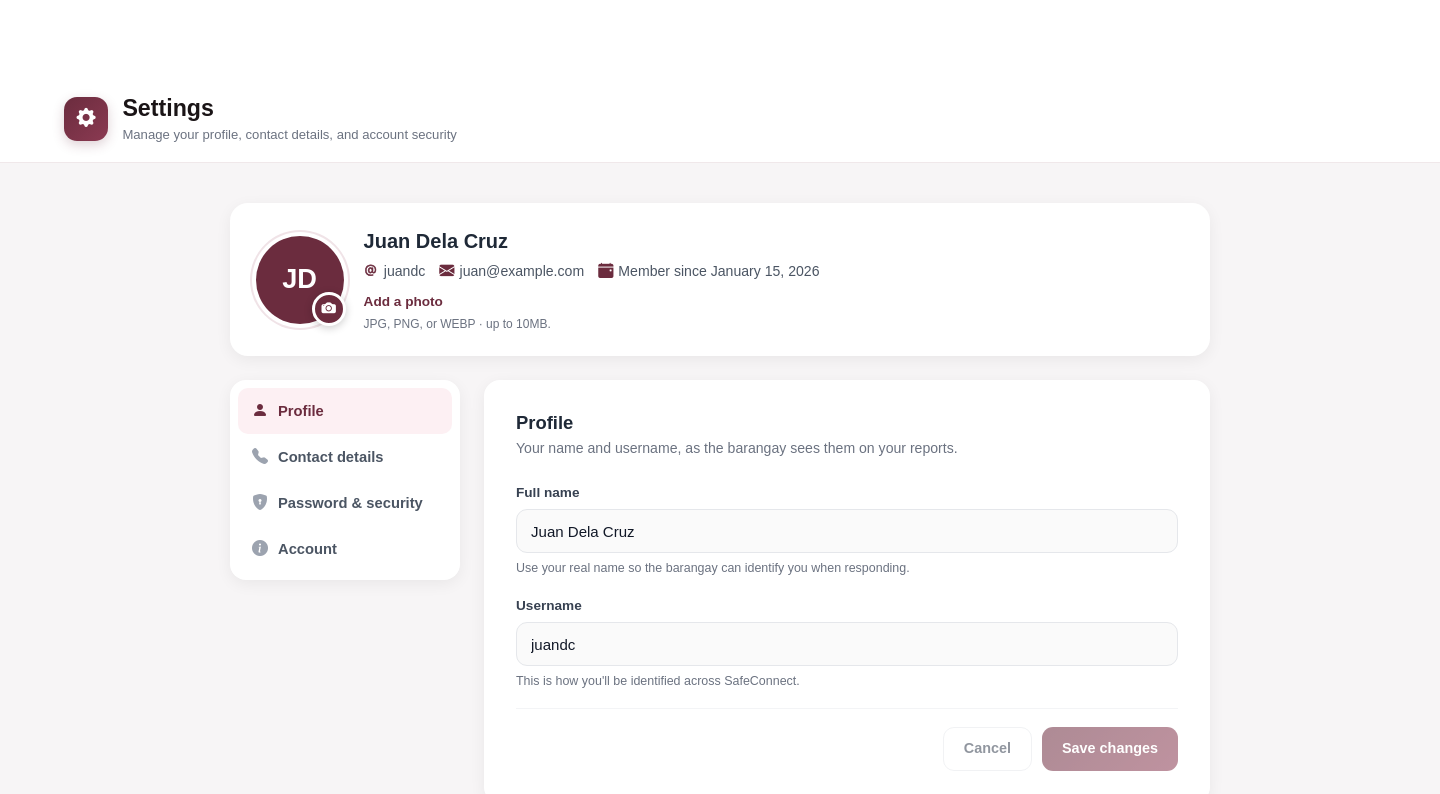
Scenario: Password › password requirements stay hidden until a new password is typed
This screenshot has width=1440, height=794.
Check: the field labelled "Full name" holds "Juan Dela Cruz", box left=516, top=509, right=1178, bottom=553
Click the button "Password & security" at (345, 503), box left=238, top=480, right=452, bottom=526
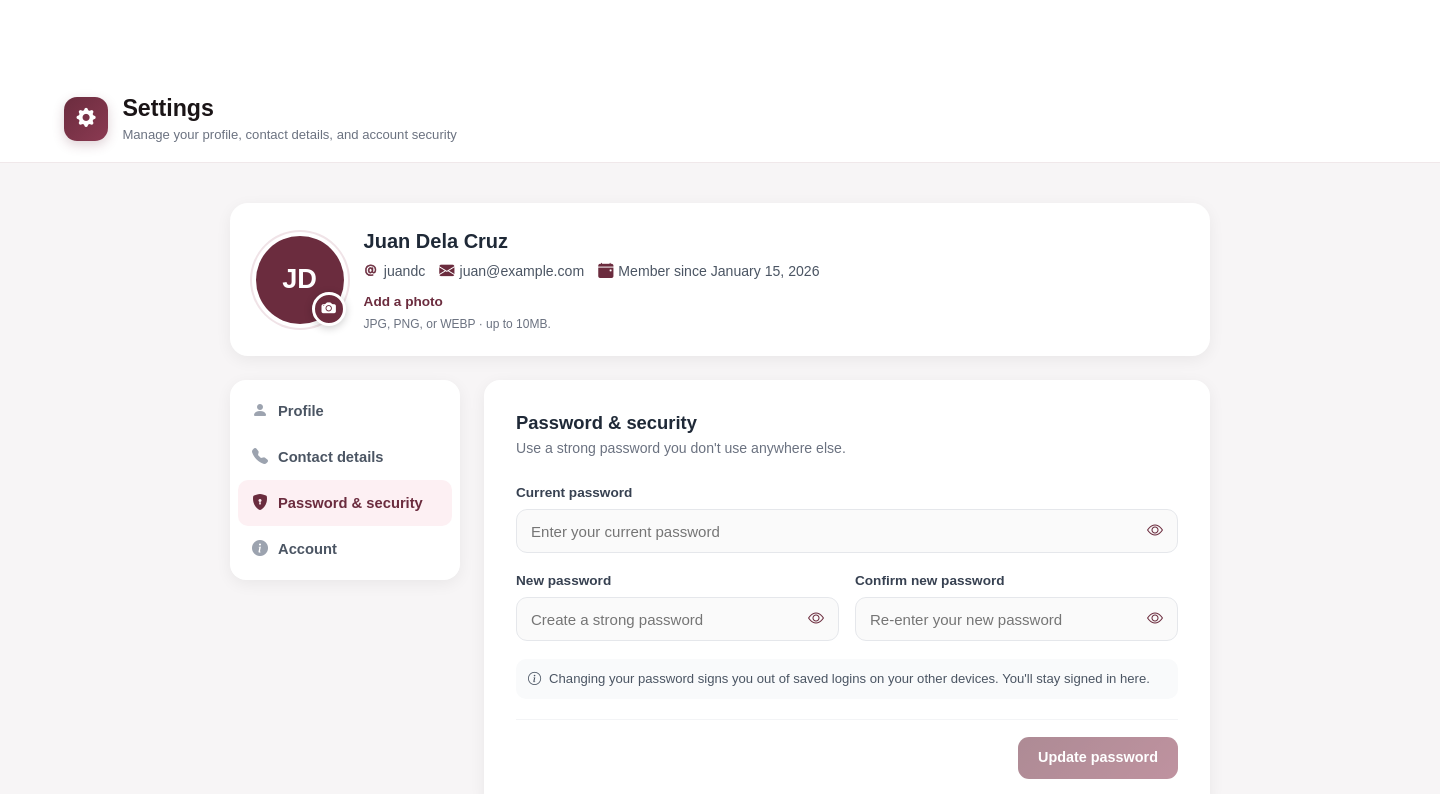
Type "N" into the password field labelled "New password" at (678, 619), box left=516, top=597, right=839, bottom=641
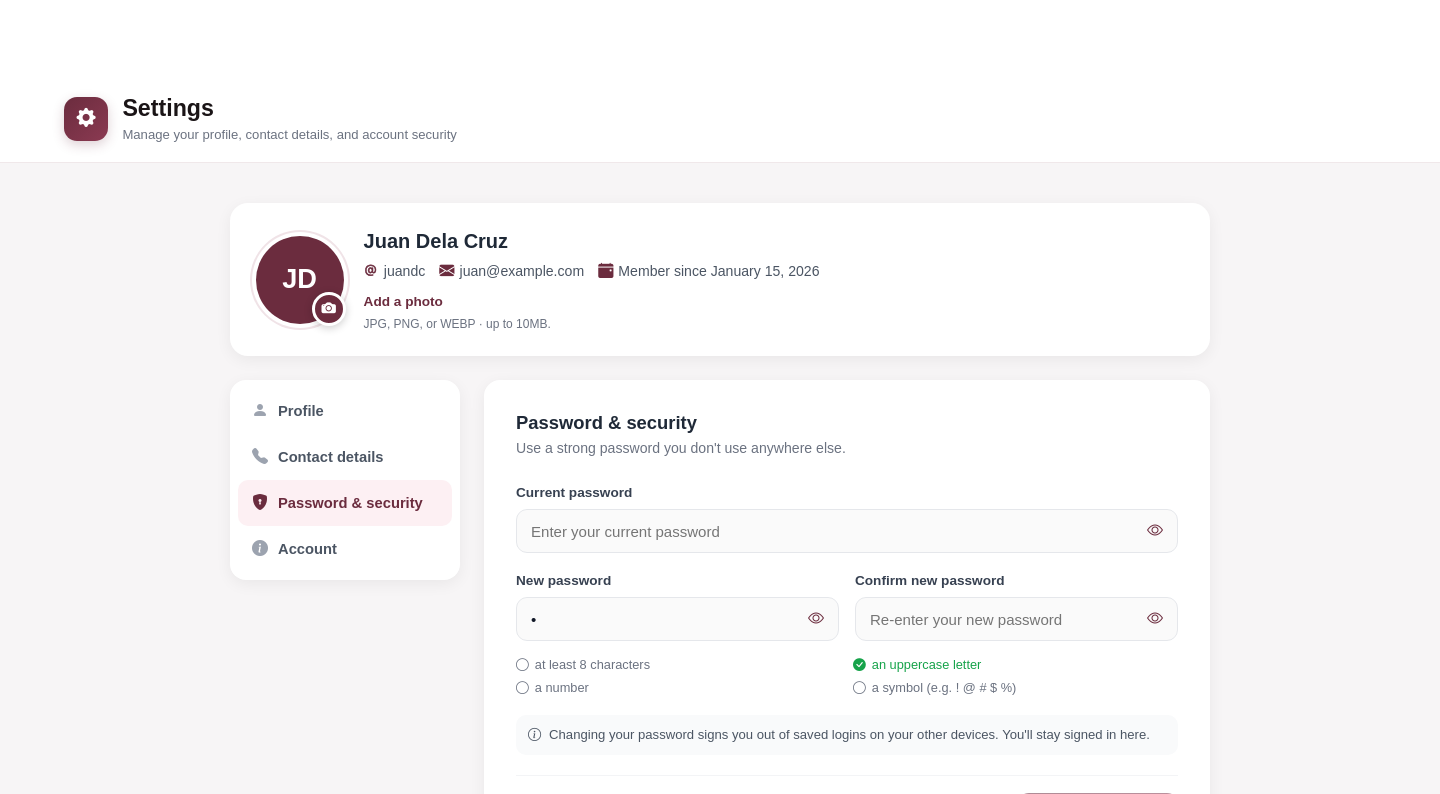
Check: the list named "Password requirements" is shown, box left=516, top=655, right=1016, bottom=697
